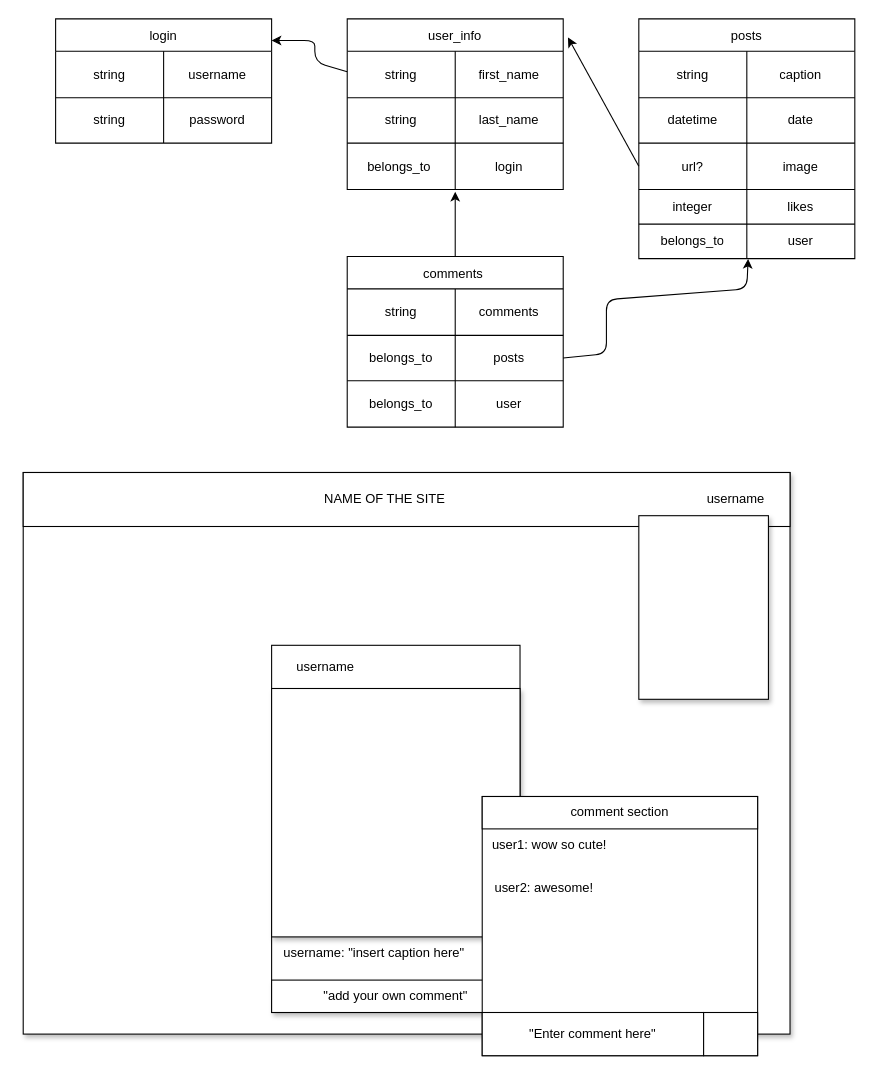
The diagram is 874 pixels wide and 1075 high, and some of its shapes have lost their labels. The shapes that lost their labels are listed below. From the top down, each one's centre as x and y in pixels, then its label:
point (704, 608): Account setting favorited create new post your account logout
point (396, 813): picture here
point (730, 1033): send
